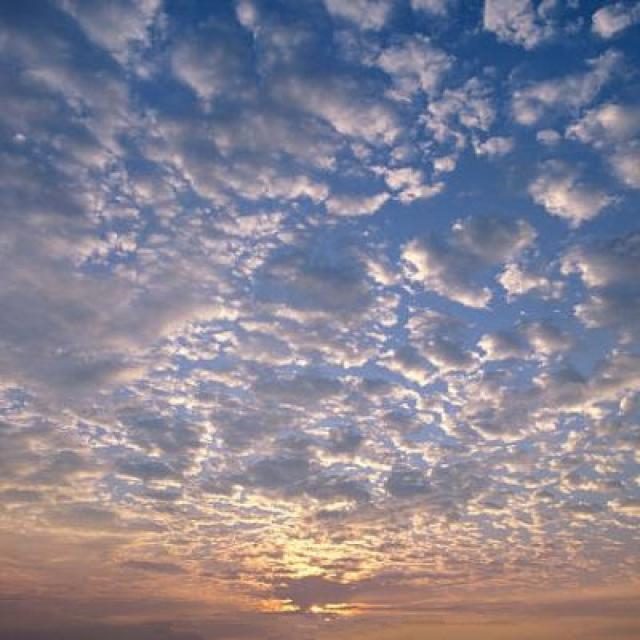Cc: (48, 84, 623, 598)
